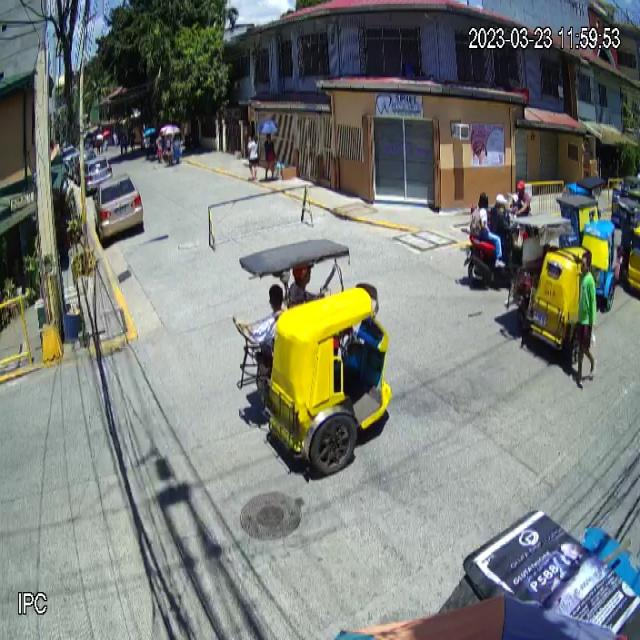Tricycle: (228, 233, 394, 474), (508, 214, 594, 355)
